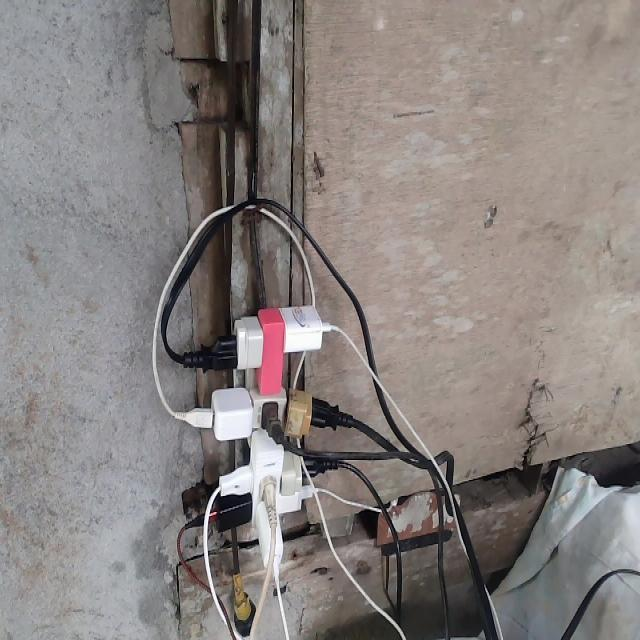-: (177, 304, 342, 567)
